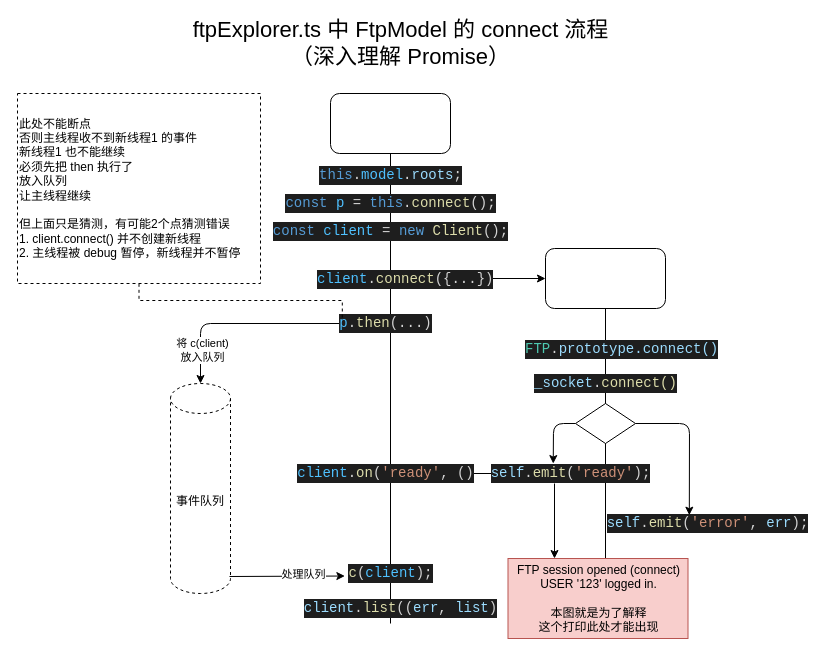
This 826x656 diagram has some shape labels left out. Each missing label, with the box of its shape:
js 主线程: (330, 92, 450, 154)
新线程1: (544, 248, 666, 308)
